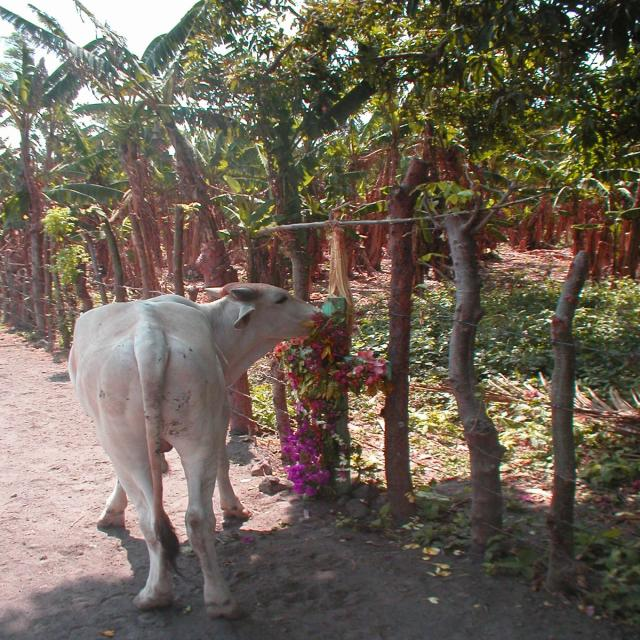cow: (68, 282, 315, 618)
